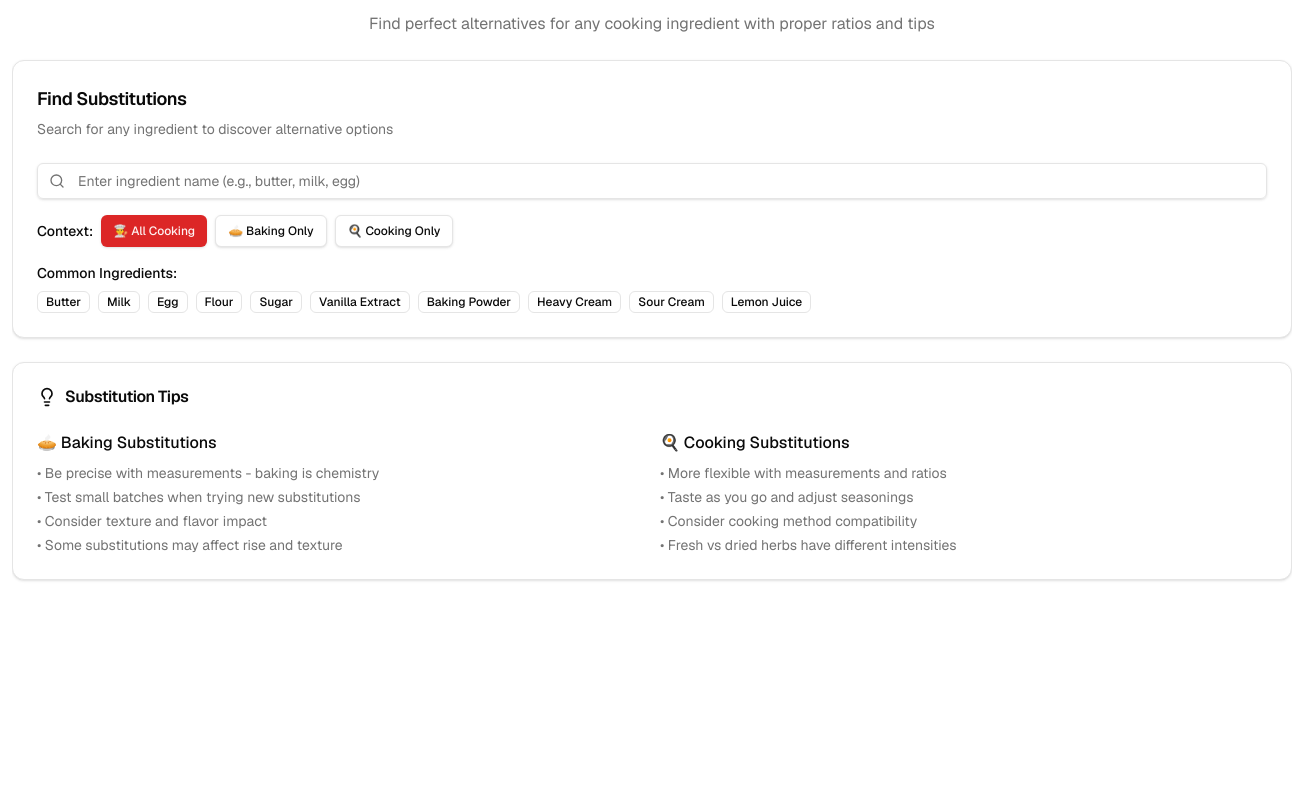
Test case: SubstitutionWizard › Common Ingredients Quick Access › should hide common ingredients when search term is entered
Type "olive oil" into the field with placeholder "Enter ingredient name (e.g., butter, milk, egg)" at (652, 181), box [37,163,1267,199]
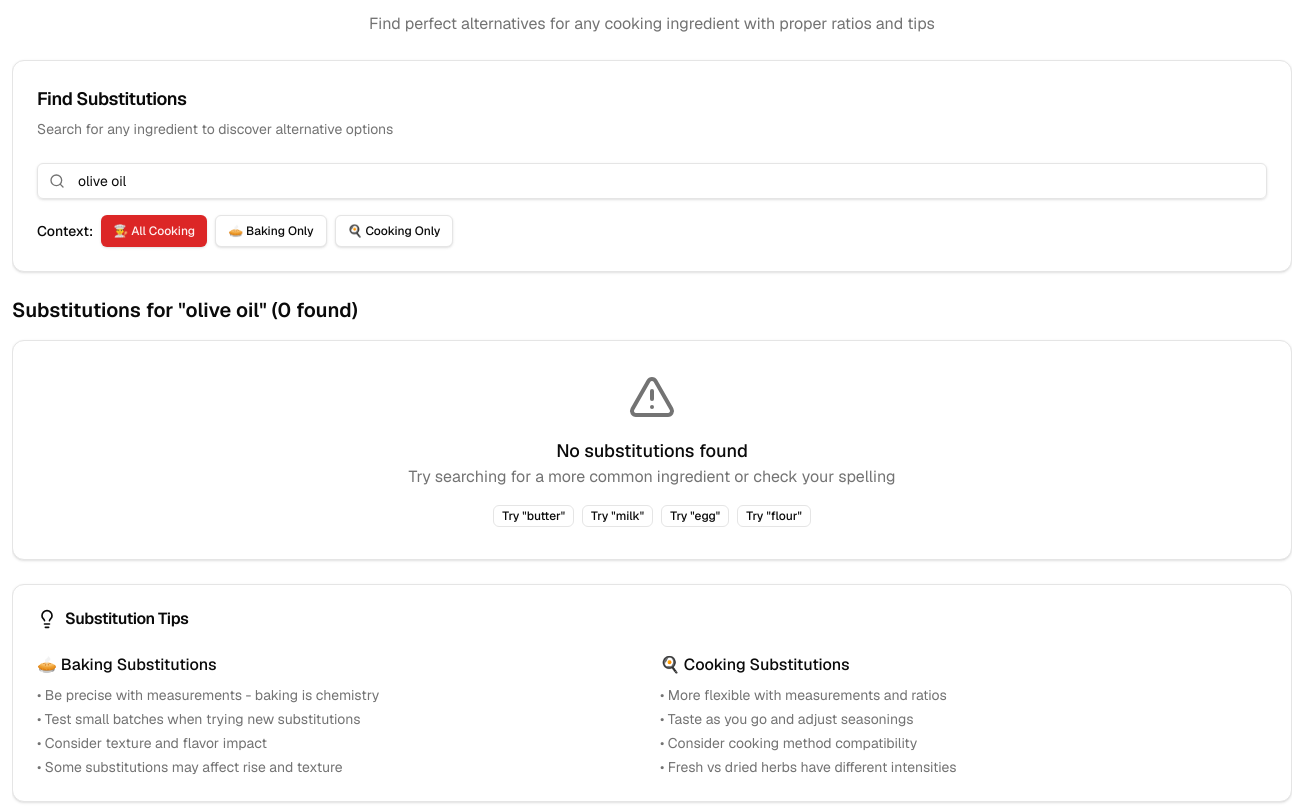
Expected: the text "Common Ingredients:" is gone
